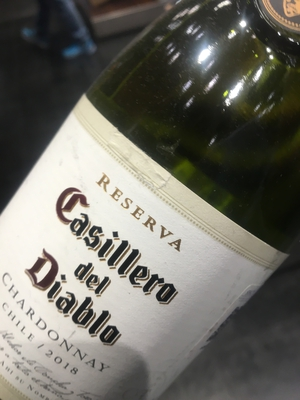casillero del diablo chardonnay: (3, 48, 283, 400)
